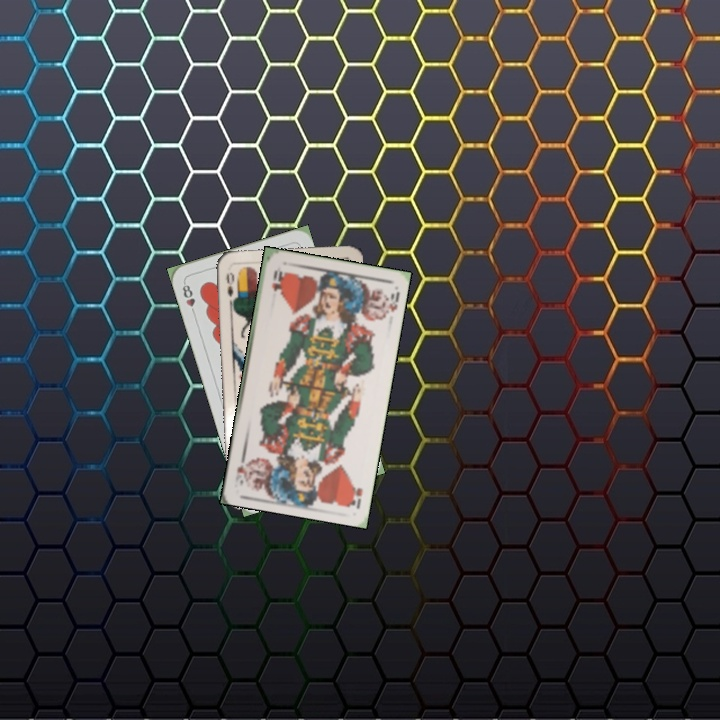EO: (222, 269, 240, 305)
H8: (178, 279, 198, 318)
HO: (345, 480, 366, 511), (268, 264, 284, 294)
